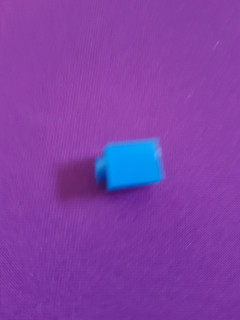1x1 blue: (90, 136, 168, 196)
